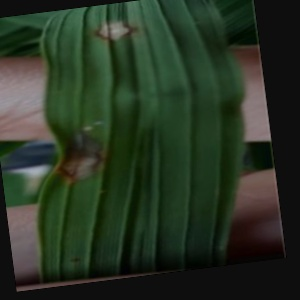Brown_Spot: (55, 117, 129, 190), (86, 6, 152, 57)
